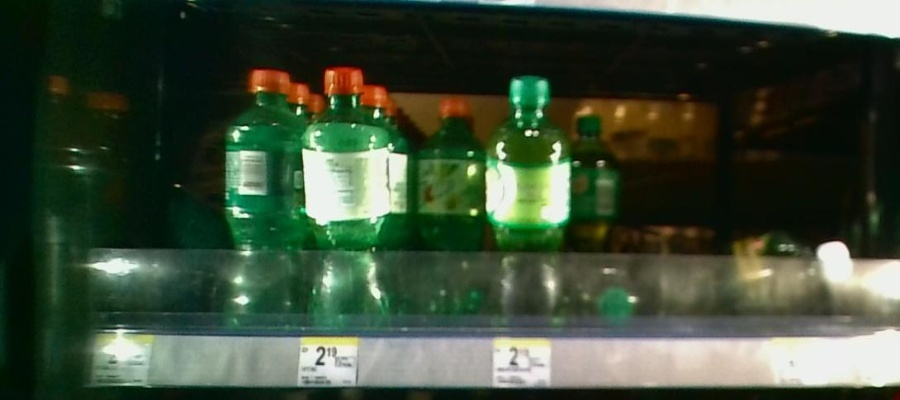bottle: (303, 60, 393, 336), (487, 76, 569, 326), (224, 67, 301, 331), (413, 88, 483, 324), (571, 104, 619, 287)
